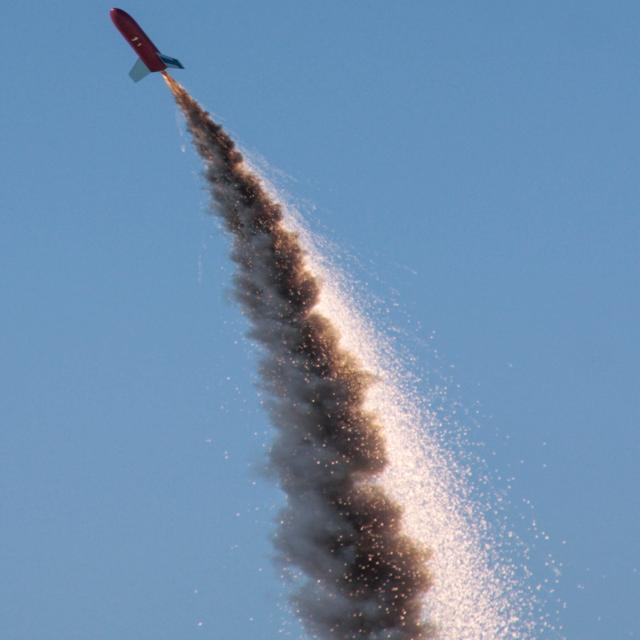Rocket: (108, 8, 186, 84)
